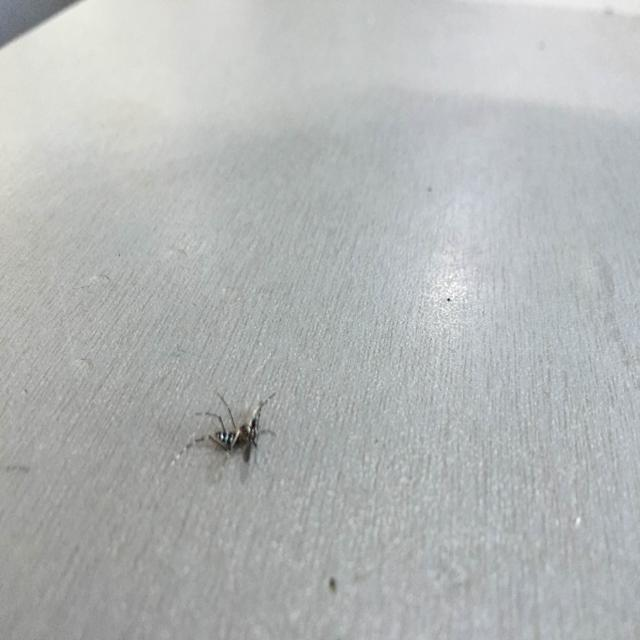albopictus: (174, 382, 281, 472)
